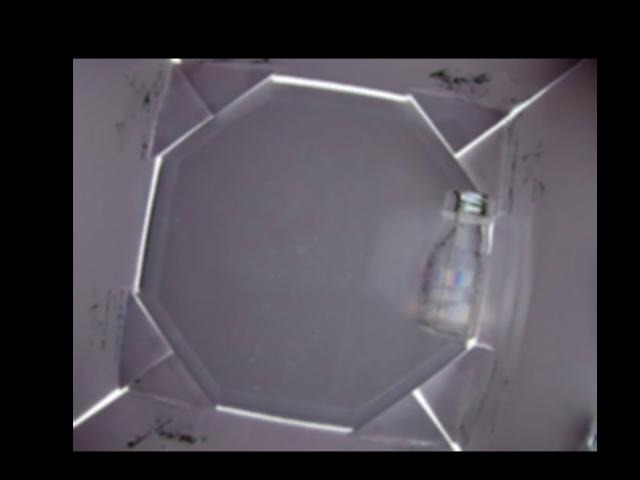Bottle: (412, 188, 497, 340)
